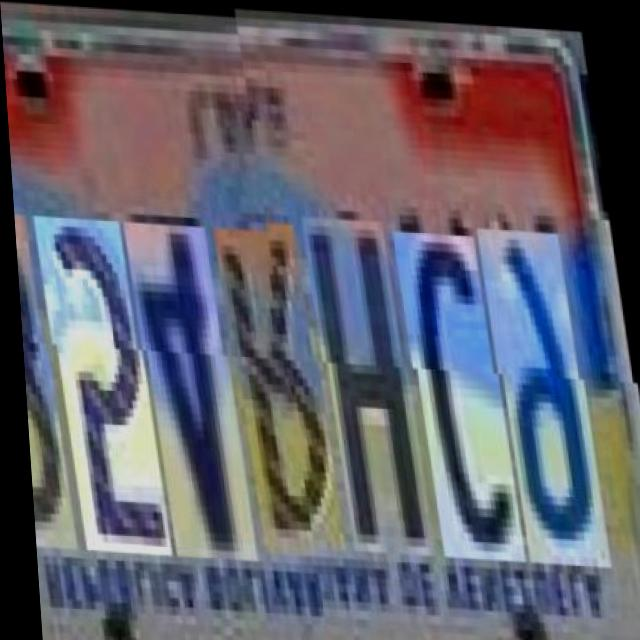4: (132, 211, 252, 550)
5: (42, 206, 165, 545)
9: (486, 221, 607, 560)
b: (11, 204, 72, 541)
c: (402, 225, 521, 555)
h: (311, 212, 431, 551)
r: (222, 216, 342, 546)
